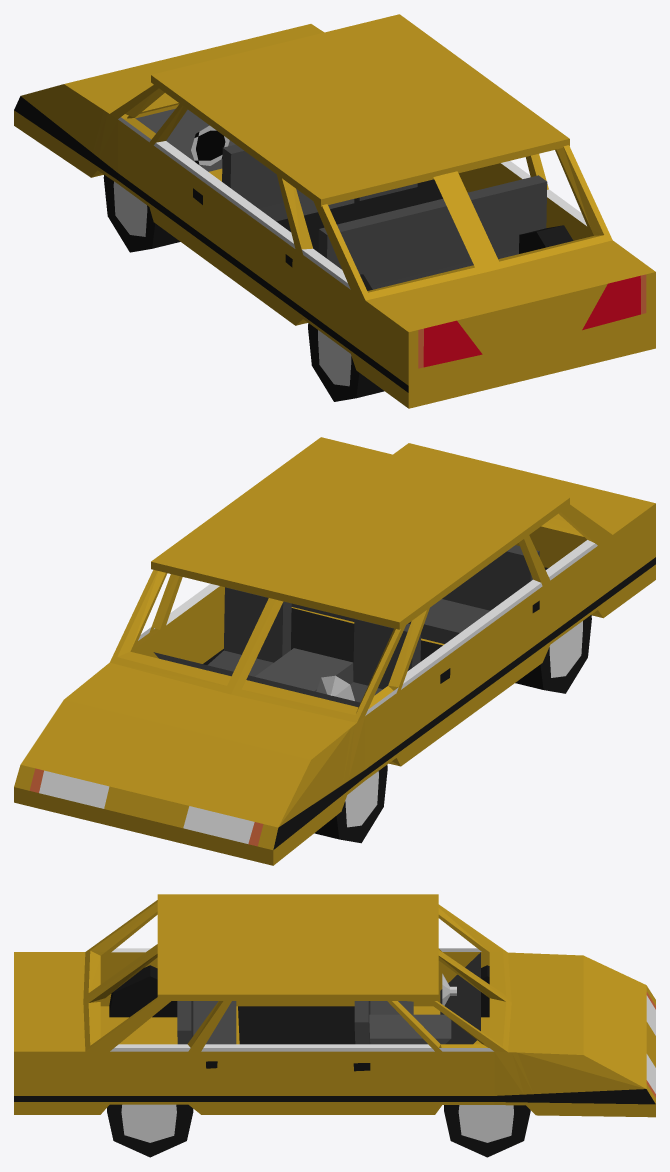
Rendered from taxi.dae.
3 renders of one model, top to bottom at view 1: azimuth 30°, elevation 25°; view 2: azimuth 150°, elevation 25°; view 3: azimuth 270°, elevation 25°, orthographic. The views are drawn at different scales.
Parts seen in each view (by area): view 1: Cube, Cube.004, Cube.002, Plane, Cube.001; view 2: Cube, Cube.004, Cube.003, Cube.002, Cube.005, Plane, Cube.001; view 3: Cube, Cube.005, Cube.004, Plane, Cube.003, Cube.002.
Part boxes in pixels (box(x1,y1,x2,y2)): Cube: box(14, 14, 655, 408); Cube.004: box(318, 175, 547, 289); Cube.002: box(222, 144, 287, 221); Plane: box(135, 108, 235, 171); Cube.001: box(191, 125, 229, 165); Cube: box(14, 437, 655, 865); Cube.004: box(291, 545, 539, 643); Cube.003: box(207, 587, 291, 676); Cube.002: box(350, 619, 420, 702); Cube.005: box(255, 648, 353, 691); Plane: box(153, 652, 360, 707); Cube.001: box(316, 675, 354, 701); Cube: box(14, 894, 655, 1157); Cube.005: box(369, 1014, 451, 1044); Cube.004: box(177, 1001, 236, 1044); Plane: box(440, 952, 480, 1044); Cube.003: box(354, 1001, 370, 1044); Cube.002: box(368, 1001, 413, 1014).
Size of the model in its own units: 23.77 by 61.71 by 17.64.
